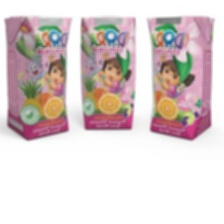carton: (141, 11, 217, 143), (0, 10, 74, 145), (73, 11, 141, 133)
